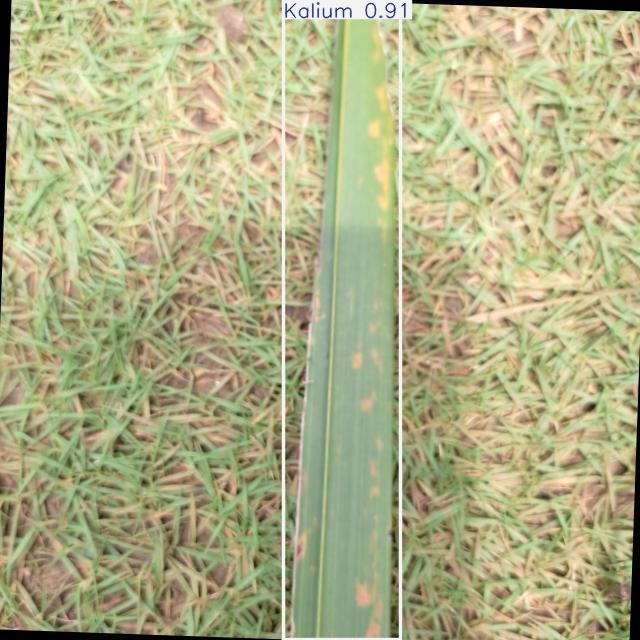Kalium: (284, 0, 400, 640)
